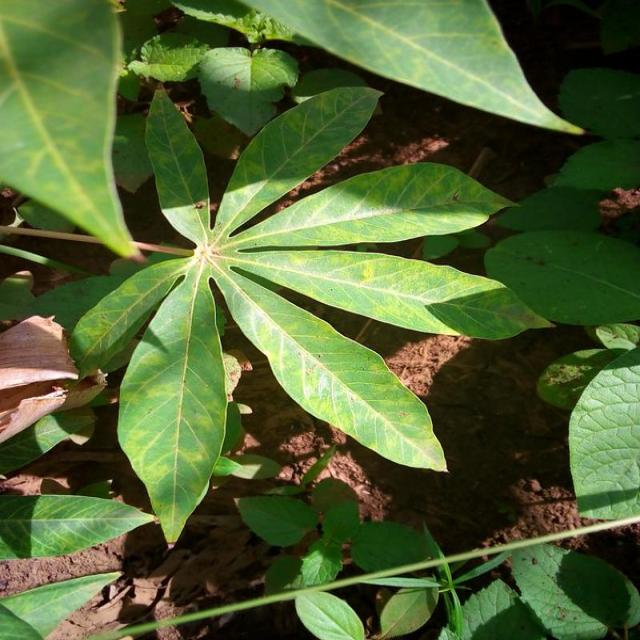cassava leaf: (66, 79, 544, 544), (239, 0, 589, 135), (1, 0, 145, 261), (117, 257, 229, 544), (568, 344, 640, 522)
